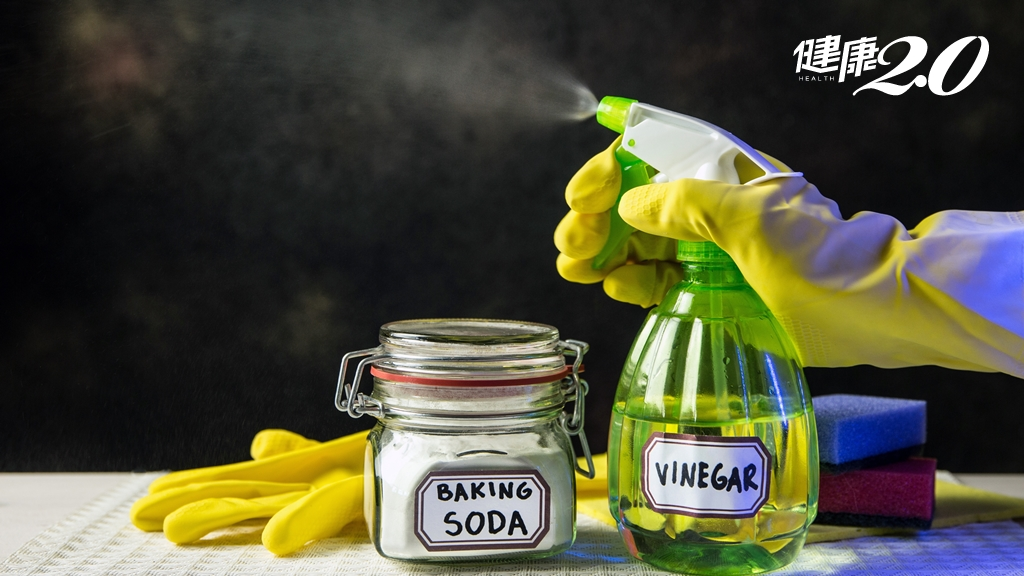cleaner: (582, 87, 825, 576)
